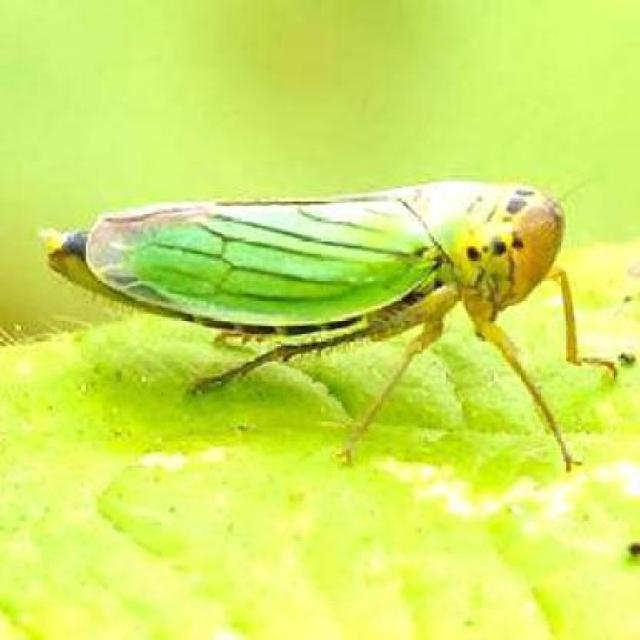green-leafhopper: (49, 179, 622, 472)
